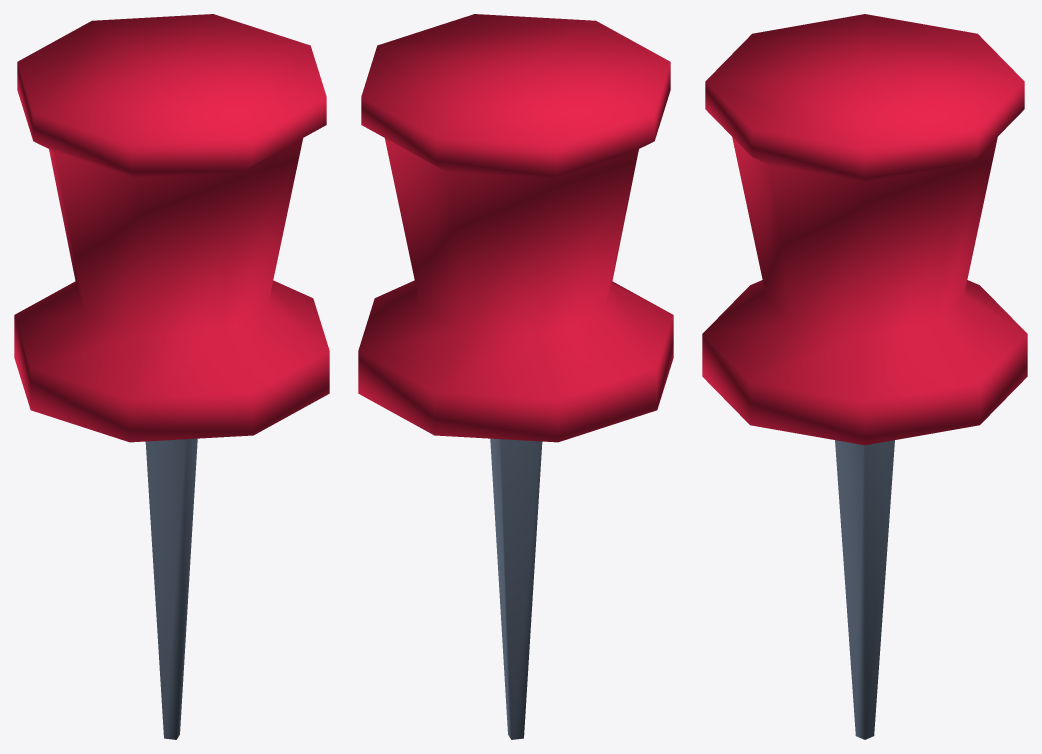
File: CHINCHETA.fbx
3 renders of one model, left to right at view 1: azimuth 30°, elevation 25°; view 2: azimuth 150°, elevation 25°; view 3: azimuth 270°, elevation 25°, orthographic.
Parts seen in each view (by area): view 1: Plane; view 2: Plane; view 3: Plane.
Part boxes in pixels (<box>): Plane: <box>14,14,329,739</box>; Plane: <box>358,14,673,739</box>; Plane: <box>702,14,1027,739</box>.
Bounding box in the file's own units: 241 × 536 × 241.
